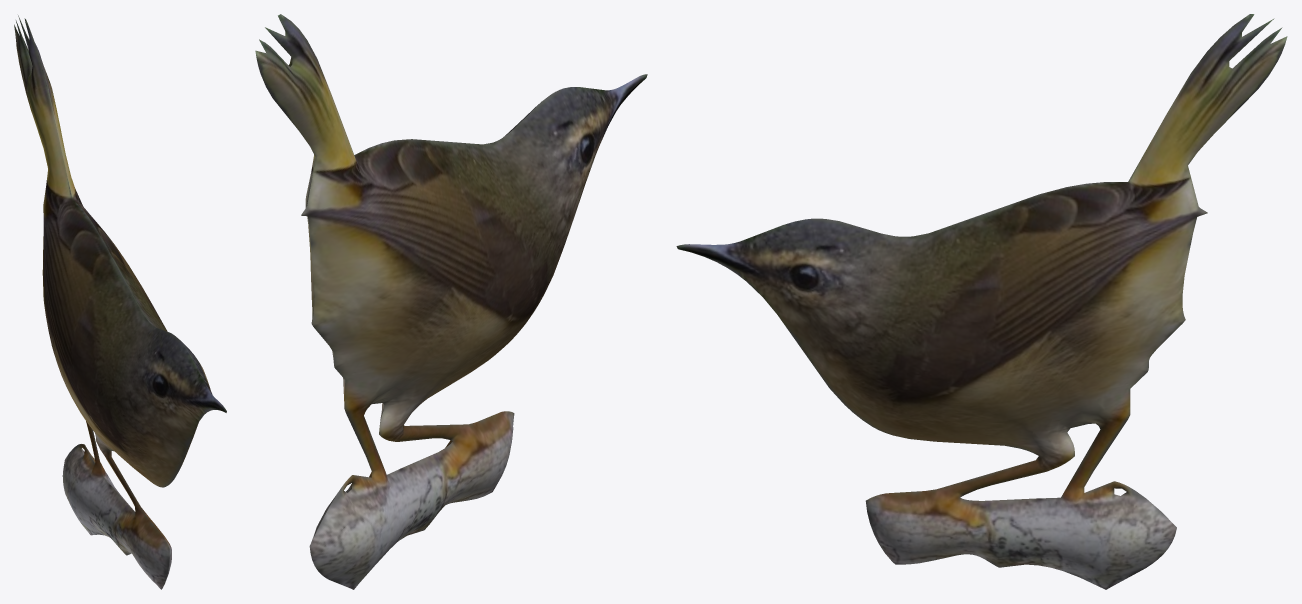
Rendered from 900-removebg-preview.gltf.
3 views of the same model, side by side, from view 1: azimuth 30°, elevation 25°; view 2: azimuth 150°, elevation 25°; view 3: azimuth 270°, elevation 25° (orthographic). The views are drawn at different scales.
Visible parts, largest first — view 1: node1; view 2: node1; view 3: node1.
Part boxes in pixels (box(x1,y1,x2,y2)): node1: box(14, 15, 226, 589); node1: box(255, 14, 647, 589); node1: box(676, 14, 1287, 589).
Bounding box in the file's own units: 0.2592 × 1.24 × 1.2.
1 material, 1 textured.
